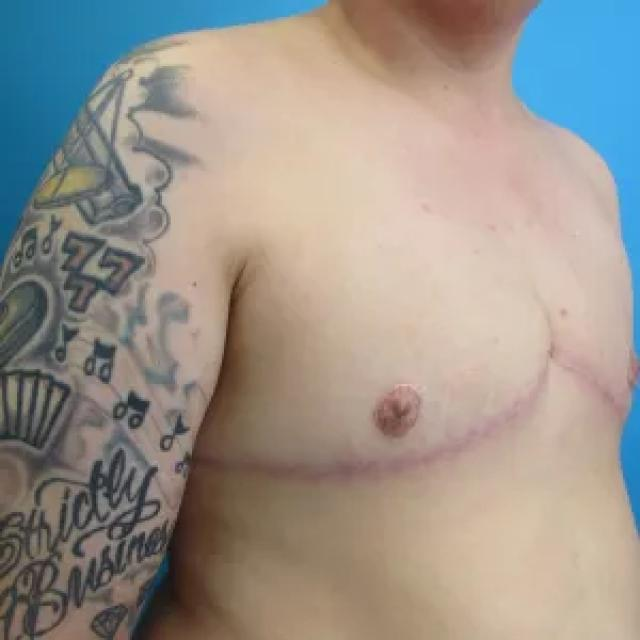Seno herido: (183, 222, 550, 504), (555, 211, 640, 440)
